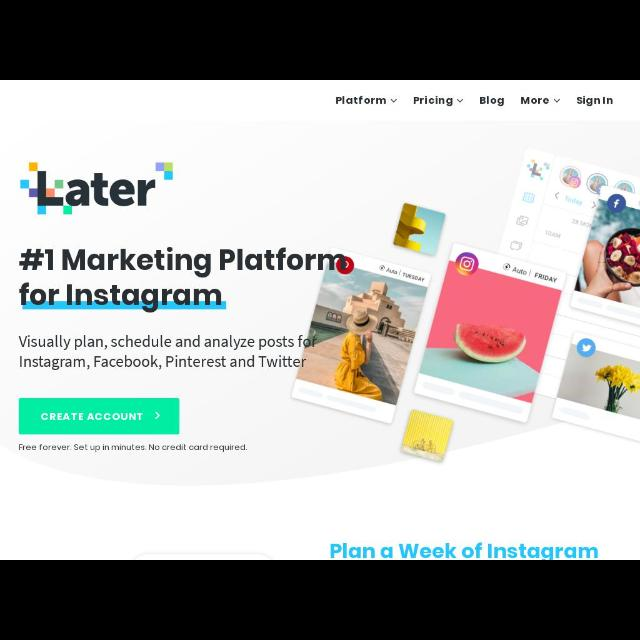icon: (457, 96, 463, 104), (389, 99, 396, 103), (553, 98, 559, 102)
image: (292, 147, 640, 463), (19, 162, 174, 214)
spinner: (337, 95, 398, 111), (413, 94, 465, 110), (520, 96, 562, 108)
text: (21, 246, 345, 312), (20, 336, 316, 368), (330, 543, 598, 559), (18, 444, 248, 452), (40, 412, 144, 424), (336, 94, 386, 108), (413, 97, 453, 107), (576, 97, 614, 107), (520, 96, 548, 106), (479, 97, 505, 107)
toolbar: (1, 80, 639, 121)
